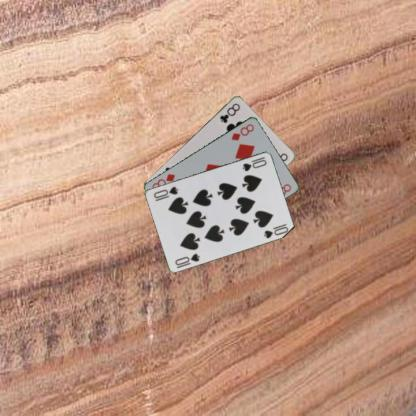10s: (240, 154, 268, 172), (173, 251, 201, 266)
8c: (217, 101, 242, 124)
8d: (229, 120, 255, 142)
